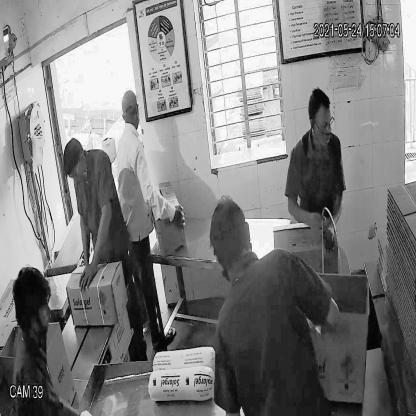goggles: (305, 113, 336, 134)
